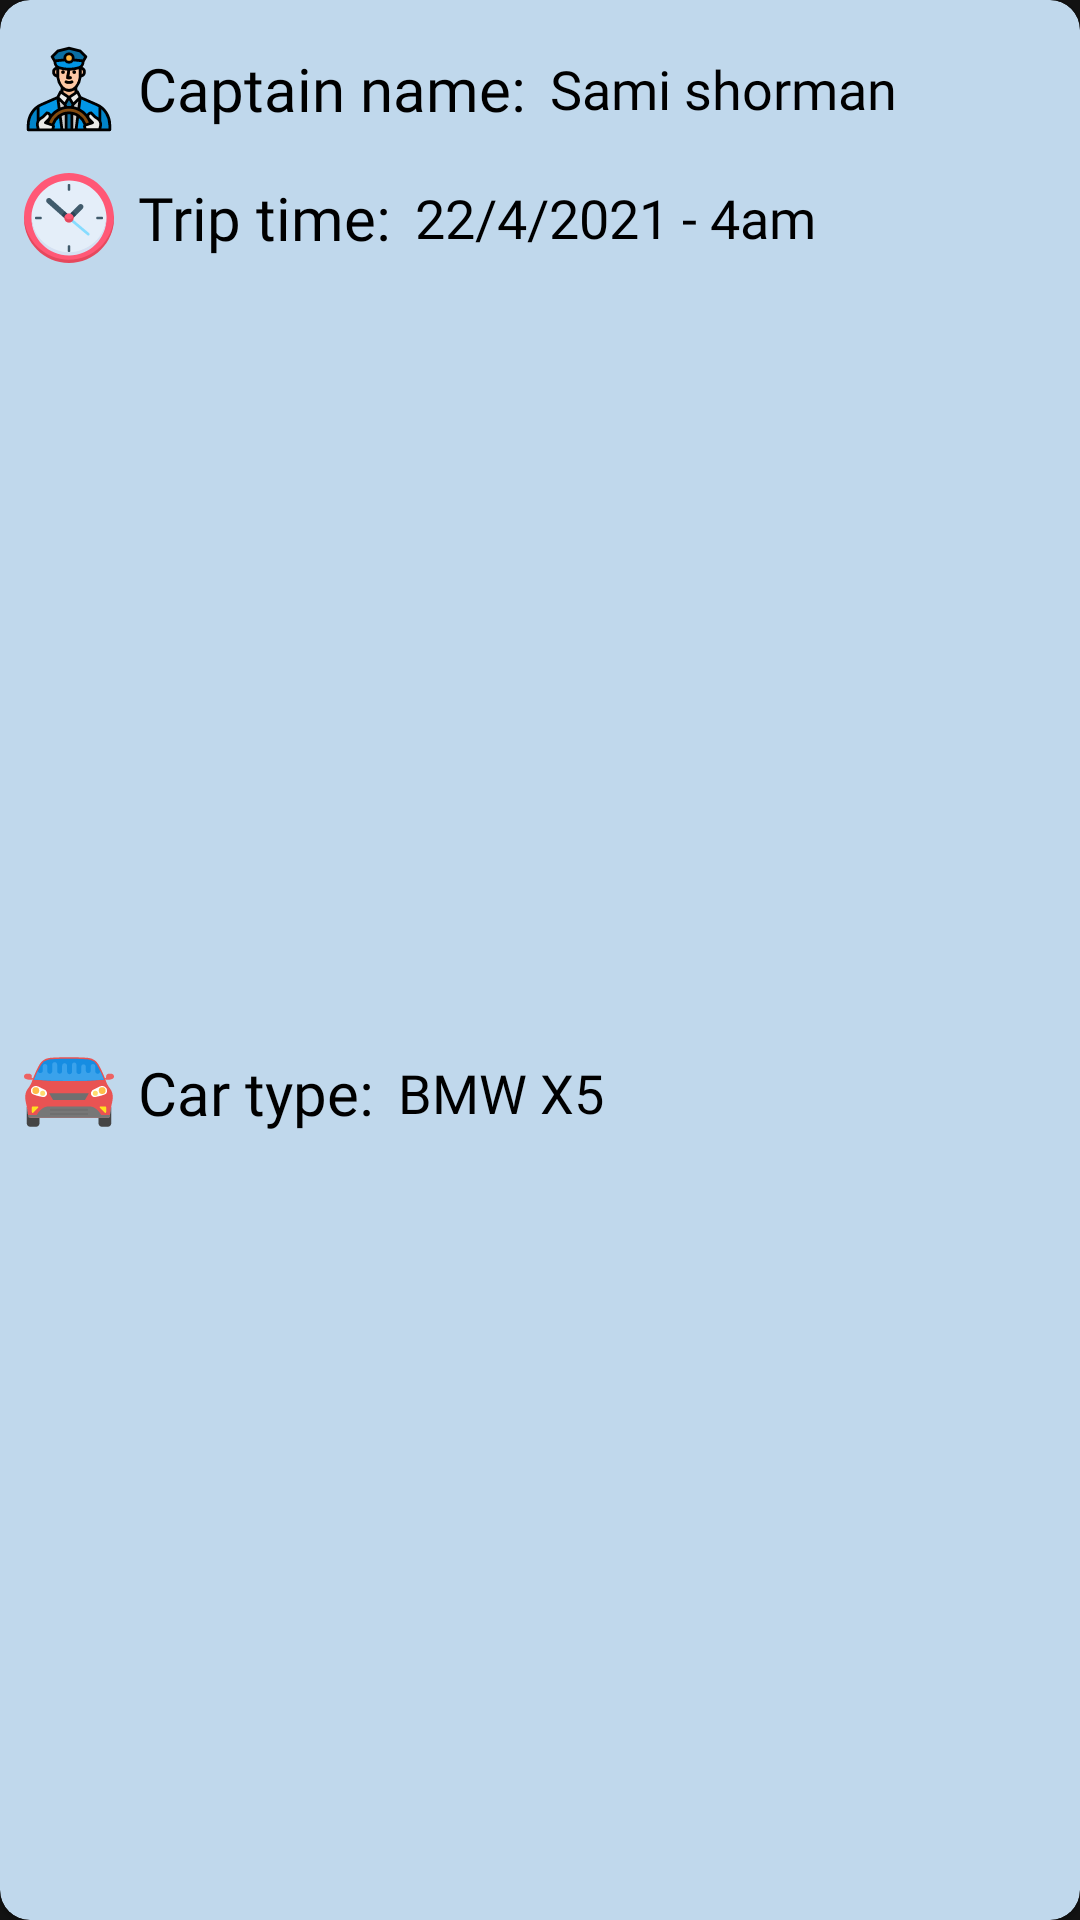

Icons on this 1080w x 1920h Android screen, each with the point to tap as point (x, y):
clock: point (69, 218)
driver: point (69, 89)
